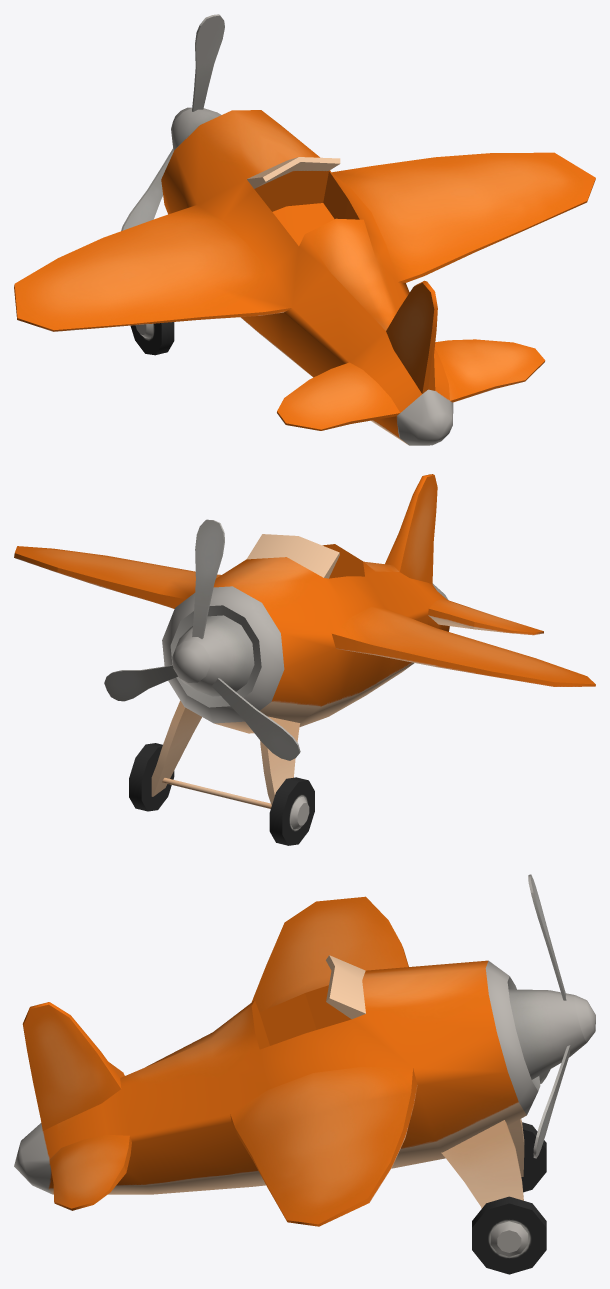
Rendered from PVB export toy plane.fbx.
3 views of the same model, one above another, from view 1: azimuth 30°, elevation 25°; view 2: azimuth 150°, elevation 25°; view 3: azimuth 270°, elevation 25° (orthographic). The views are drawn at different scales.
Parts seen in each view (by area): view 1: base, propellor_1, propellor_3, wiel_rechts; view 2: base, wiel_rechts, propellor_1, propellor_3, been_links, wiel_links, propellor_2, been_rechts, tussen_stuk; view 3: base, wiel_links, been_links, wiel_rechts, propellor_2, propellor_1, been_rechts.
Part boxes in pixels (bbox=[...]): base: bbox=[14, 107, 595, 445]; propellor_1: bbox=[192, 14, 224, 111]; propellor_3: bbox=[121, 148, 173, 230]; wiel_rechts: bbox=[130, 322, 174, 355]; base: bbox=[14, 474, 595, 733]; wiel_rechts: bbox=[269, 777, 314, 845]; propellor_1: bbox=[192, 519, 224, 638]; propellor_3: bbox=[211, 678, 300, 760]; been_links: bbox=[151, 700, 201, 796]; wiel_links: bbox=[129, 743, 174, 811]; propellor_2: bbox=[104, 665, 177, 701]; been_rechts: bbox=[260, 716, 300, 805]; tussen_stuk: bbox=[162, 778, 271, 808]; base: bbox=[14, 896, 595, 1226]; wiel_links: bbox=[472, 1196, 546, 1274]; been_links: bbox=[441, 1120, 523, 1208]; wiel_rechts: bbox=[521, 1122, 546, 1192]; propellor_2: bbox=[533, 1045, 570, 1158]; propellor_1: bbox=[528, 874, 566, 1000]; been_rechts: bbox=[507, 1119, 524, 1176].
Bounding box in the file's own units: 32.12 × 16.58 × 24.63.
1 material, 1 textured.
